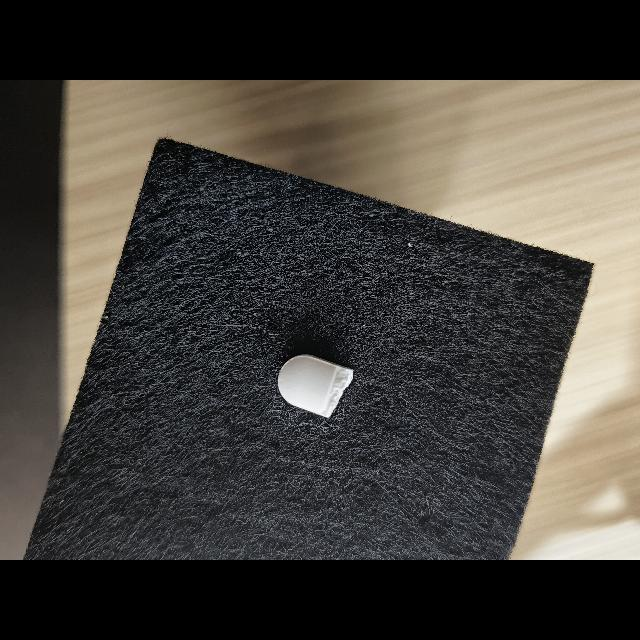Chipped Pill: (278, 354, 354, 418)
